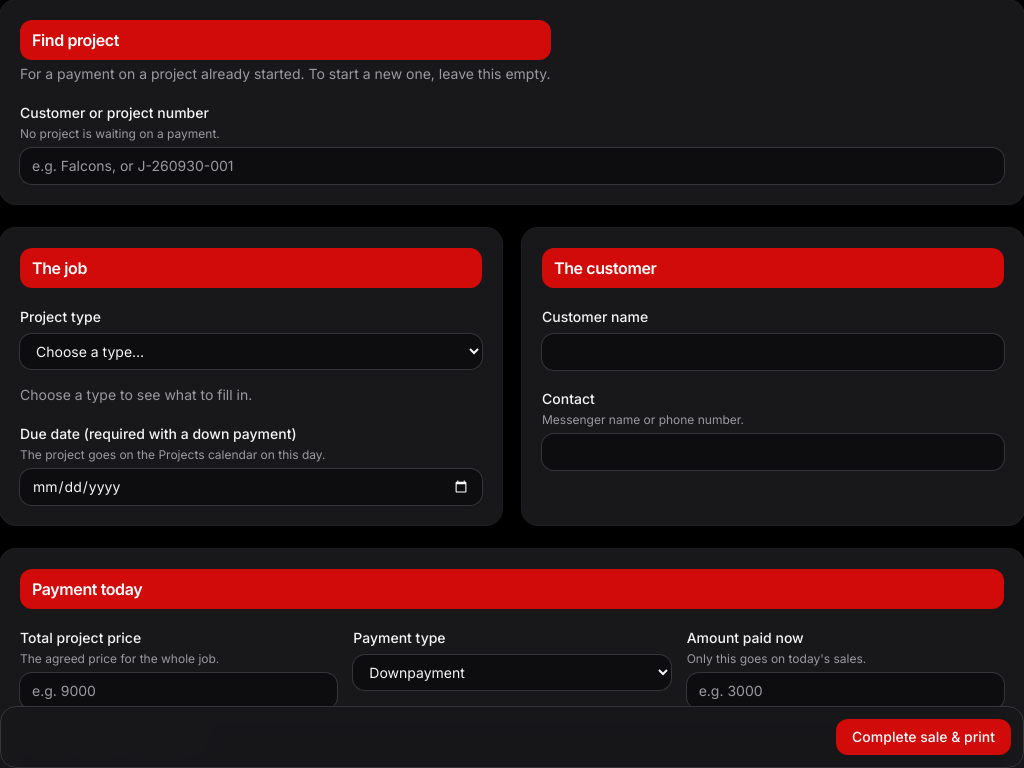
the job › asks a tarpaulin for its size and quantity
Select "Tarpaulin" in the dropdown labelled "Project type" at (251, 352), box [20, 334, 482, 369]
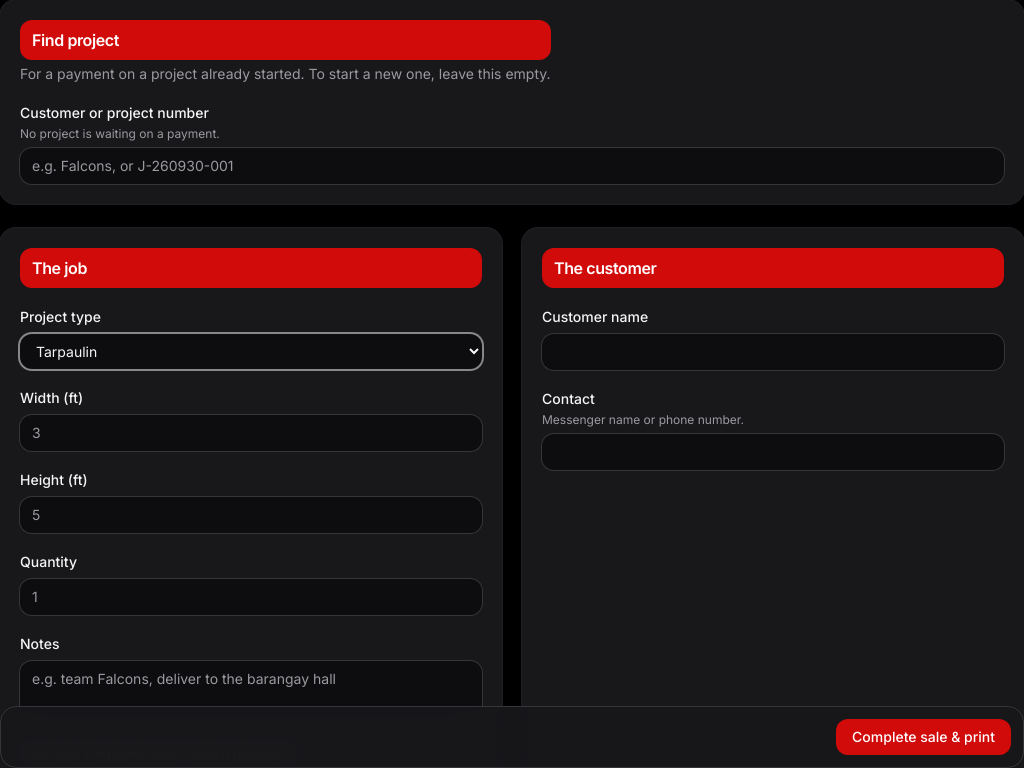
Result: the field labelled "Width (ft)" is shown at [20, 415, 482, 451]
Result: the field labelled "Height (ft)" is shown at [20, 497, 482, 533]
Result: the field labelled "Quantity" is shown at [20, 579, 482, 615]
